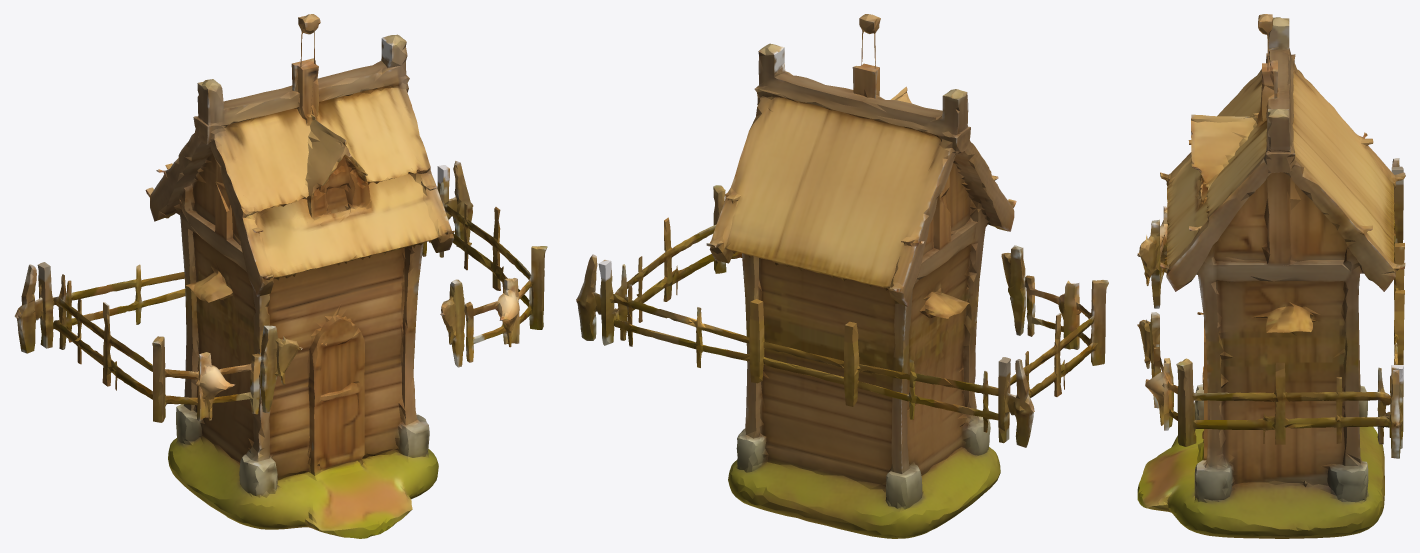
Rendered from orc_farm.glb.
The picture shows the model from 3 angles, left to right: view 1: azimuth 30°, elevation 25°; view 2: azimuth 150°, elevation 25°; view 3: azimuth 270°, elevation 25°; orthographic projection.
Parts seen in each view (by area): view 1: orc_farm; view 2: orc_farm; view 3: orc_farm.
Part boxes in pixels (box(x1,y1,x2,y2)): orc_farm: box(14, 14, 547, 538); orc_farm: box(576, 14, 1108, 538); orc_farm: box(1137, 14, 1405, 538).
Size of the model in its own units: 1.9 by 1.89 by 0.95.
Materials: 1 (1 with a texture image).
